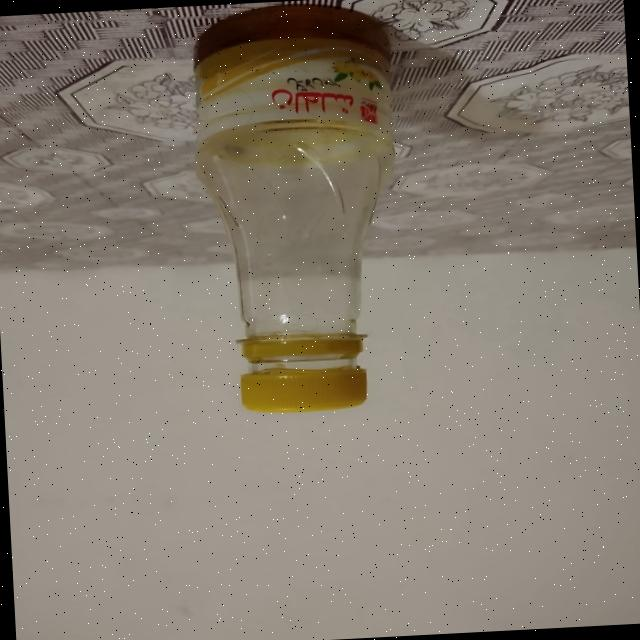bottle: (153, 0, 440, 427)
cap: (227, 326, 383, 429)
label: (180, 17, 414, 164)
